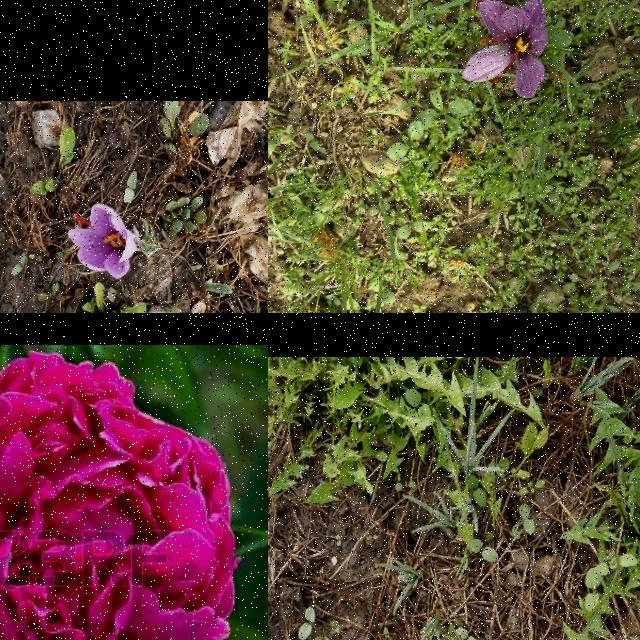flower: (461, 0, 548, 99), (68, 203, 136, 279)
